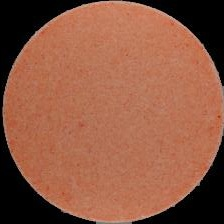70786-2116: (0, 0, 224, 224)
